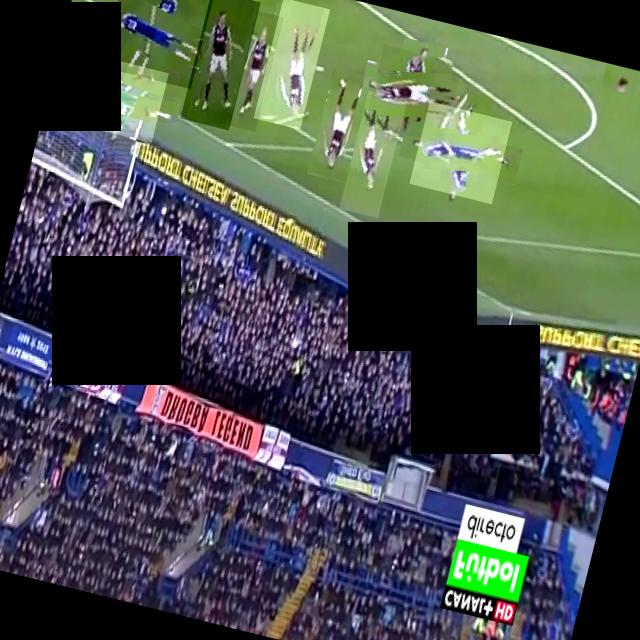goalkeeper: (80, 55, 168, 142)
soccer-player: (408, 100, 511, 202), (179, 0, 259, 129), (252, 0, 329, 128), (100, 0, 212, 87), (364, 43, 462, 142), (338, 88, 406, 216), (306, 66, 371, 182), (228, 10, 282, 130), (600, 61, 640, 94)
